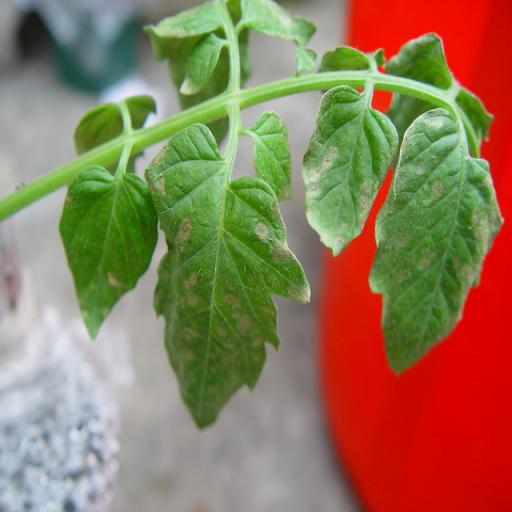Leaf Mold: (137, 122, 309, 433), (368, 110, 504, 379), (54, 168, 162, 342), (302, 88, 398, 258)
